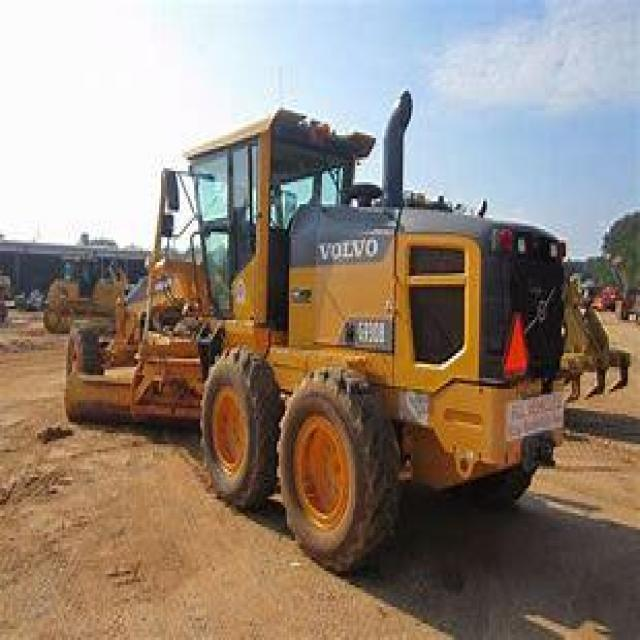Grader: (62, 94, 601, 565)
